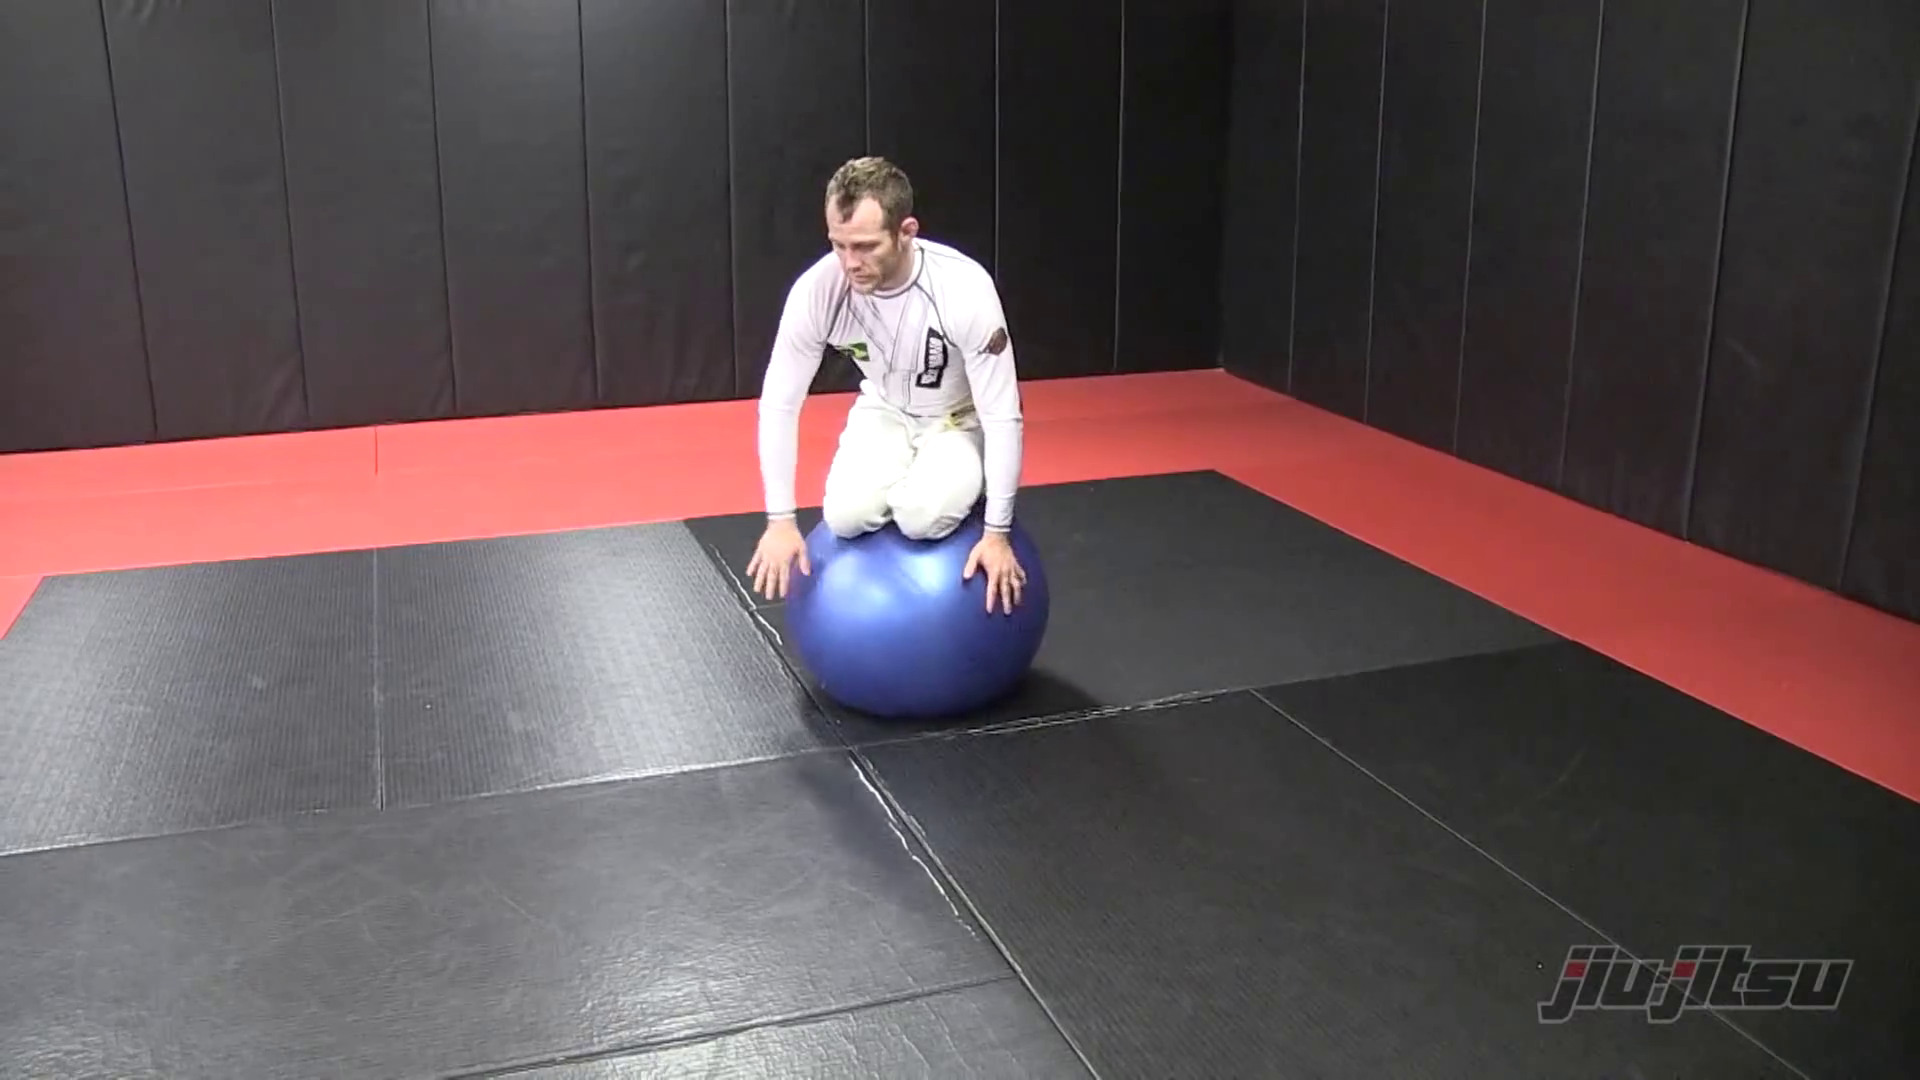yogaball: (757, 514, 1077, 731)
